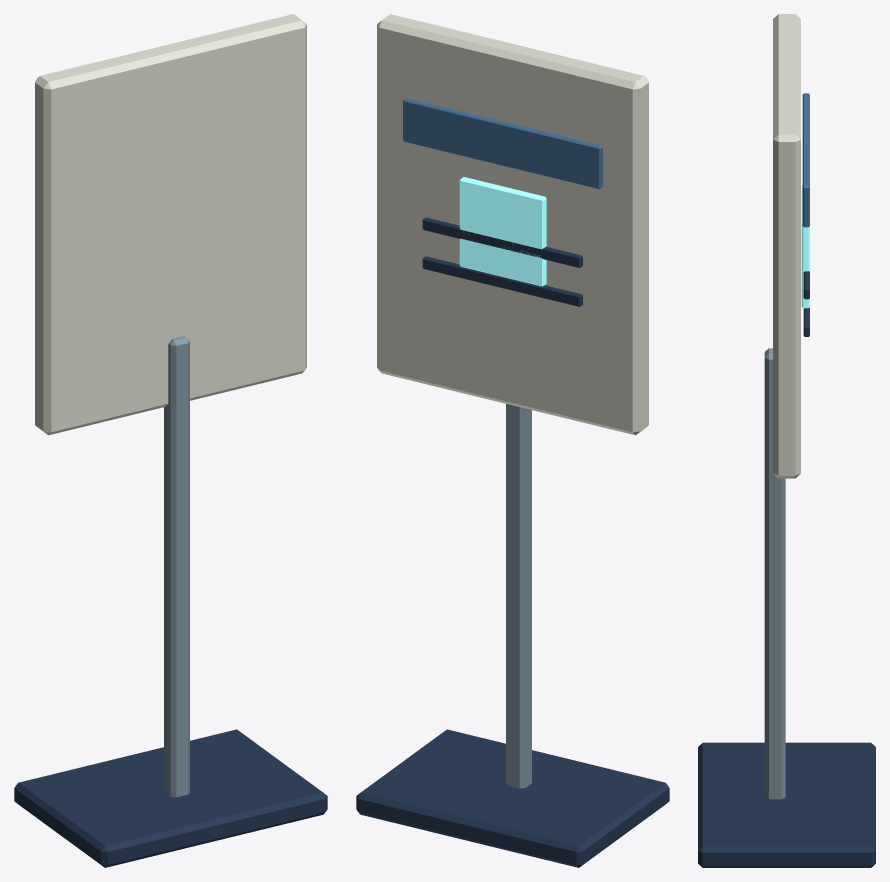
Rendered from retail_poster_pedestal.glb.
3 renders of one model, left to right at view 1: azimuth 30°, elevation 25°; view 2: azimuth 150°, elevation 25°; view 3: azimuth 270°, elevation 25°, orthographic. The views are drawn at different scales.
Visible parts, largest first — view 1: poster_panel, poster_base, poster_post; view 2: poster_panel, poster_base, poster_post, poster_panel_header, poster_icon, poster_panel_line (×2); view 3: poster_base, poster_panel, poster_post, poster_panel_header, poster_icon.
Part boxes in pixels (x1,y1,x2,y2): poster_panel: [35, 14, 306, 435]; poster_base: [14, 729, 327, 867]; poster_post: [164, 336, 189, 797]; poster_panel: [377, 14, 648, 435]; poster_base: [356, 729, 669, 867]; poster_post: [506, 404, 531, 788]; poster_panel_header: [403, 98, 602, 189]; poster_icon: [459, 177, 546, 286]; poster_panel_line (×2): [422, 217, 582, 306]; poster_base: [698, 742, 875, 867]; poster_panel: [773, 14, 800, 478]; poster_post: [764, 348, 785, 799]; poster_panel_header: [802, 93, 809, 227]; poster_icon: [801, 185, 809, 308].
Size of the model in its own units: 0.5 by 1.38 by 0.3.
